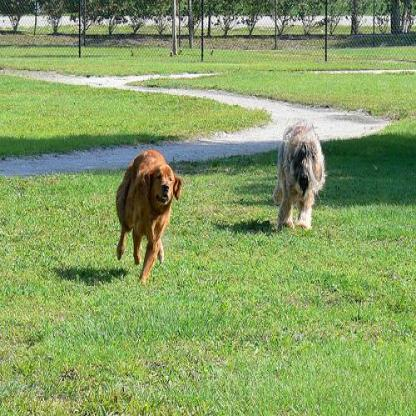briard: (114, 150, 182, 282), (272, 115, 327, 230)
